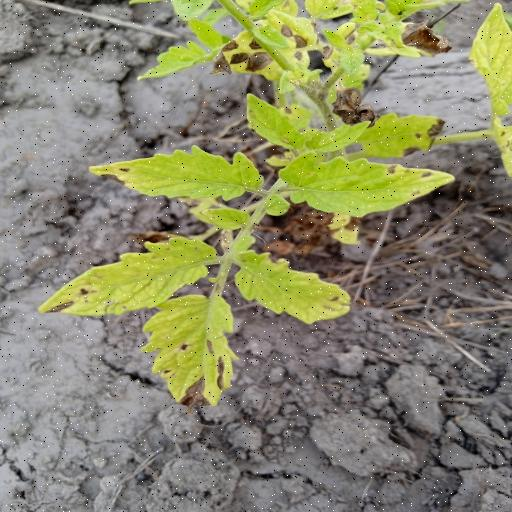Tomato_Brown_Spots: (38, 231, 220, 320), (138, 293, 244, 411), (273, 151, 458, 217), (230, 246, 356, 328), (89, 144, 265, 202)
